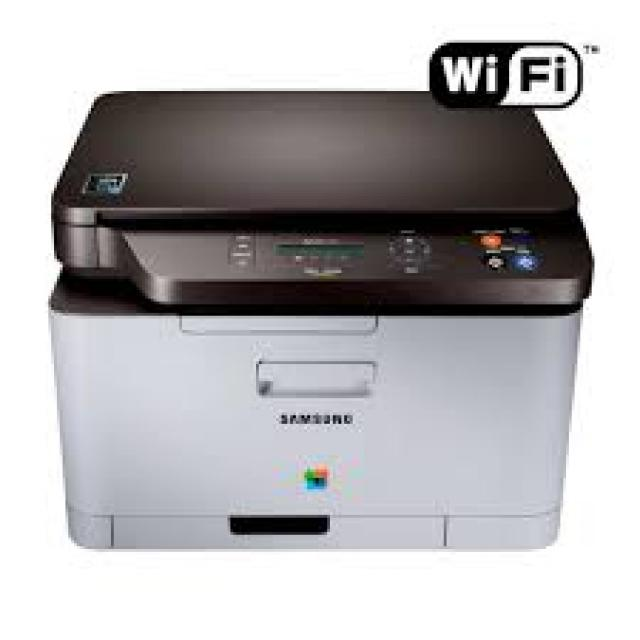printer: (53, 89, 596, 557)
